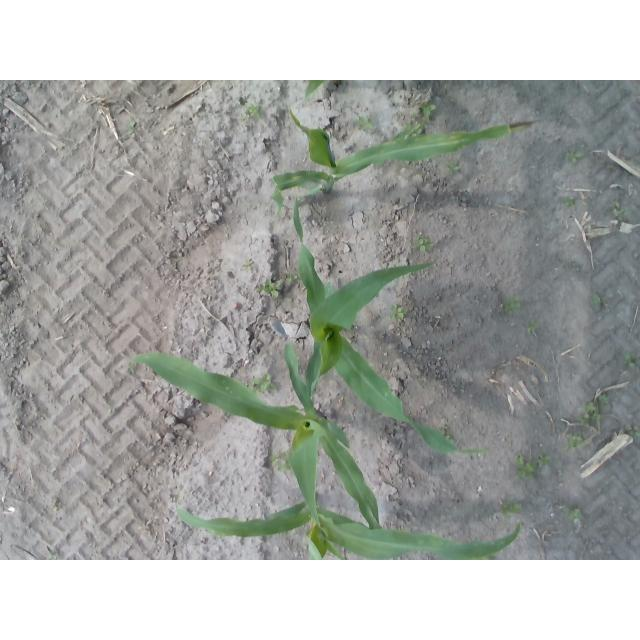Maize: (292, 181, 493, 453), (132, 316, 381, 528), (272, 106, 542, 218), (174, 493, 522, 559), (303, 81, 324, 103)
Weeds: (516, 458, 533, 479), (253, 375, 276, 390), (259, 280, 278, 297), (390, 303, 406, 321), (412, 235, 431, 249), (419, 102, 437, 116), (564, 149, 582, 163), (356, 117, 373, 130), (502, 503, 522, 514), (444, 159, 459, 173), (272, 451, 285, 466), (625, 353, 638, 368), (564, 508, 581, 519), (539, 451, 550, 466), (568, 431, 582, 442), (592, 295, 602, 310), (284, 270, 296, 282), (249, 104, 261, 116), (627, 425, 640, 436), (241, 261, 255, 271), (502, 303, 514, 314), (510, 297, 522, 308), (562, 195, 574, 206), (614, 203, 623, 217), (527, 321, 538, 332), (583, 415, 594, 426), (565, 441, 576, 452), (127, 120, 135, 135), (51, 499, 60, 512), (599, 393, 609, 402), (587, 403, 596, 413), (239, 112, 248, 121), (594, 412, 601, 420), (174, 256, 182, 262)
